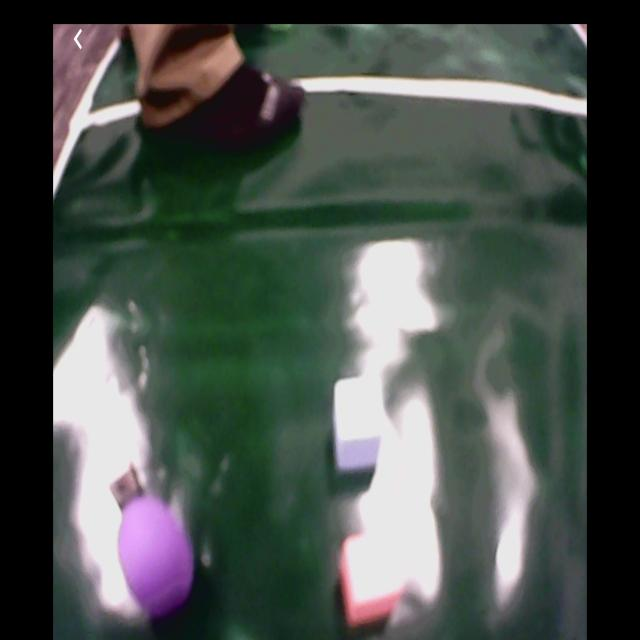ball: (118, 491, 192, 619)
